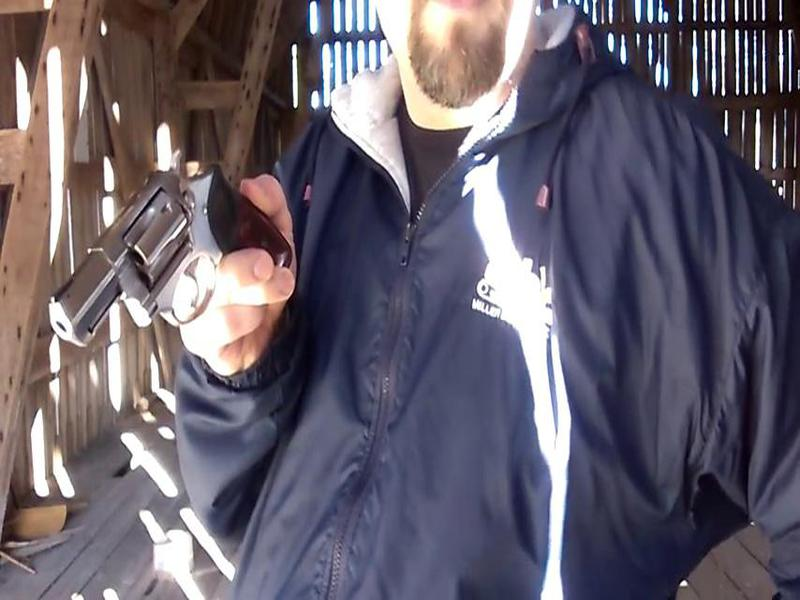Revolver: (49, 144, 267, 354)
